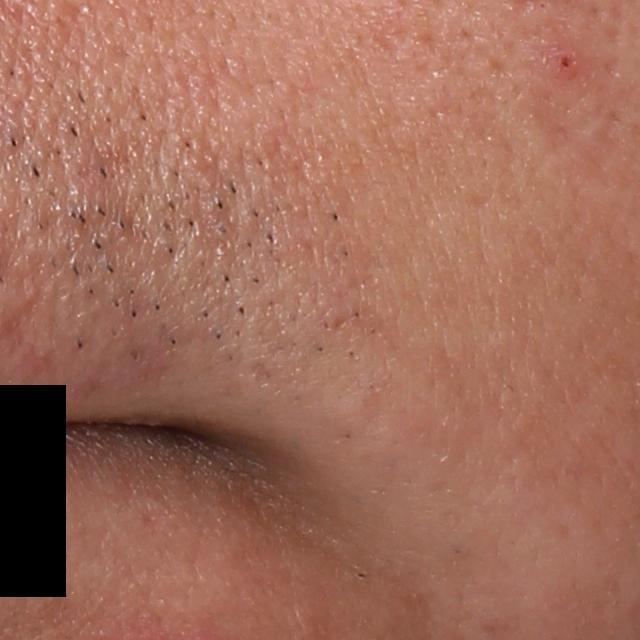papule: (549, 38, 590, 80)
